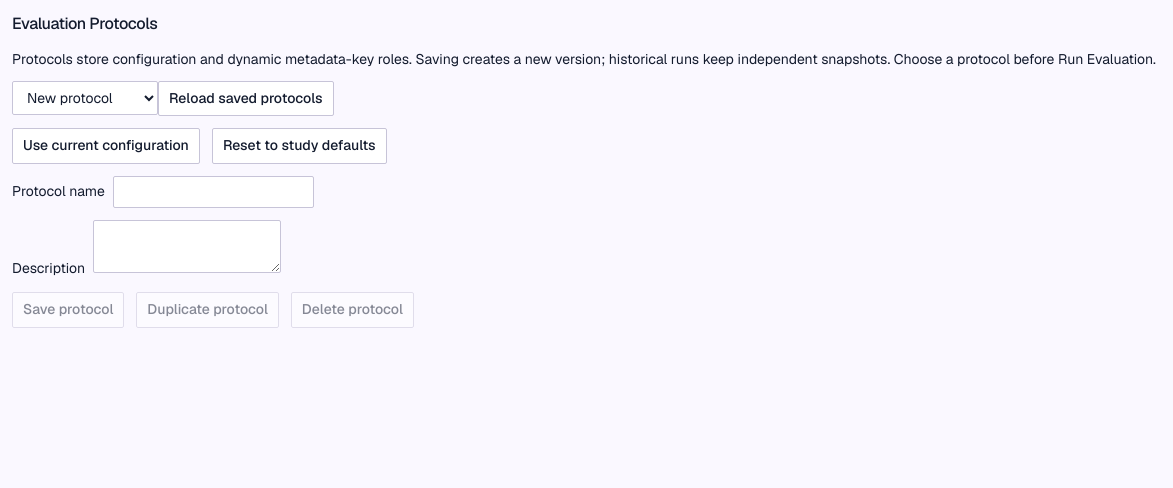
protocol settings save current configuration and version edits
Select "Protocol Ω — v2" in the dropdown named "Saved protocol" at (85, 98), box [12,81,158,115]
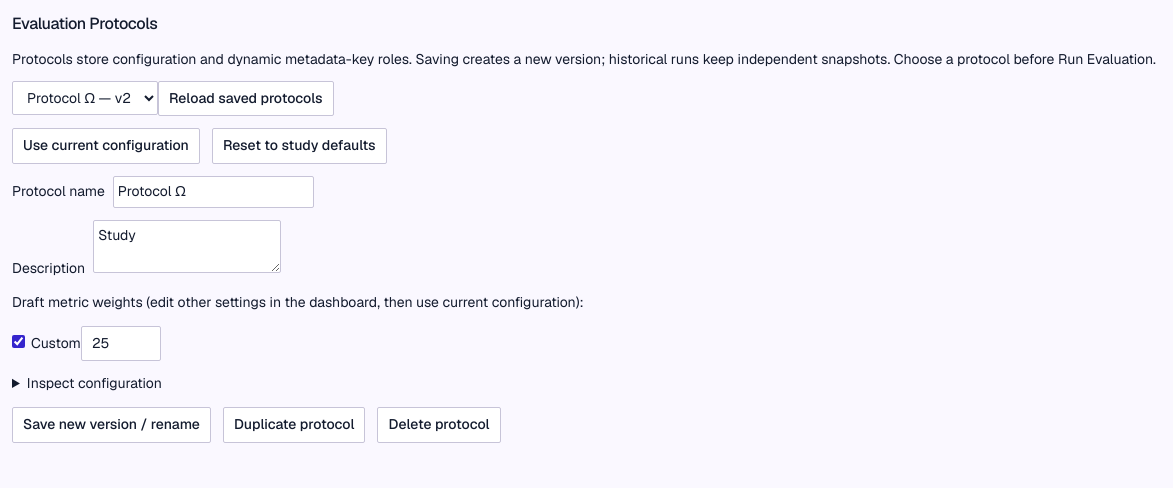
Click the button "Use current configuration" at (106, 146), box [12,128,200,164]
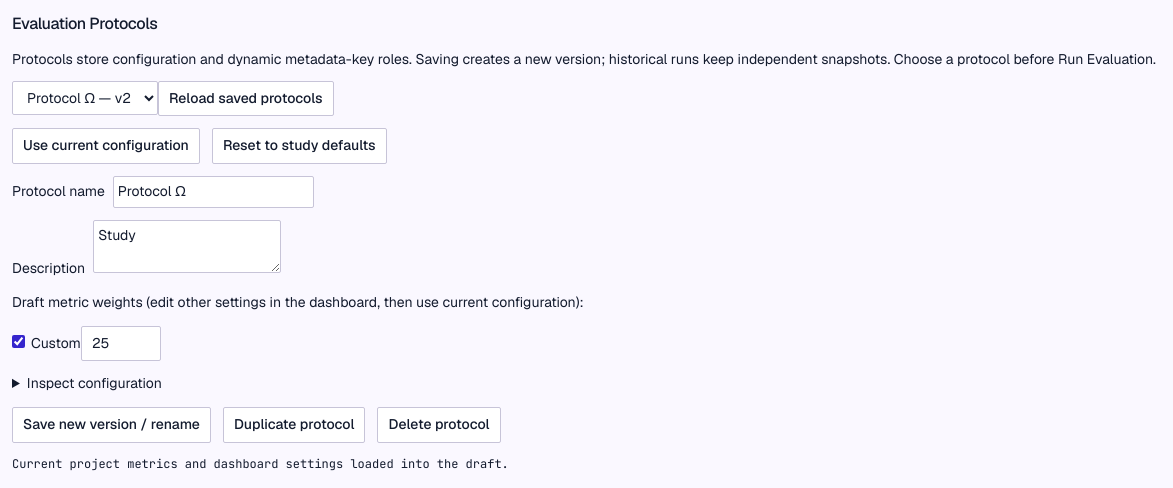
Check: the text "Current project metrics and dashboard settings loaded into the draft." is shown, box [12,456,509,472]
Replace the text in the field labelled "Protocol name" with "Renamed" at (213, 192), box [113,176,314,208]
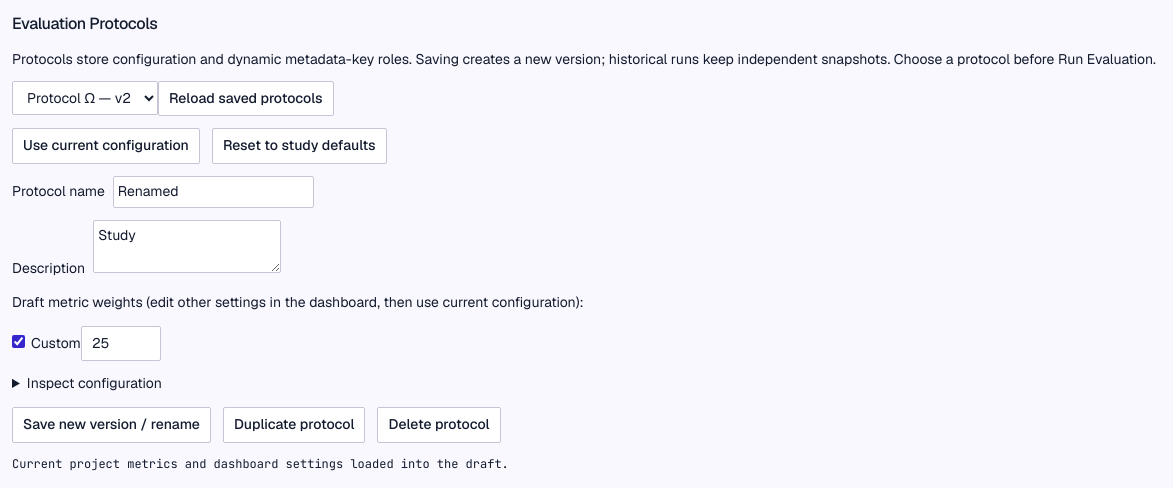
Click the button "Save new version / rename" at (111, 425), box [12,407,211,443]
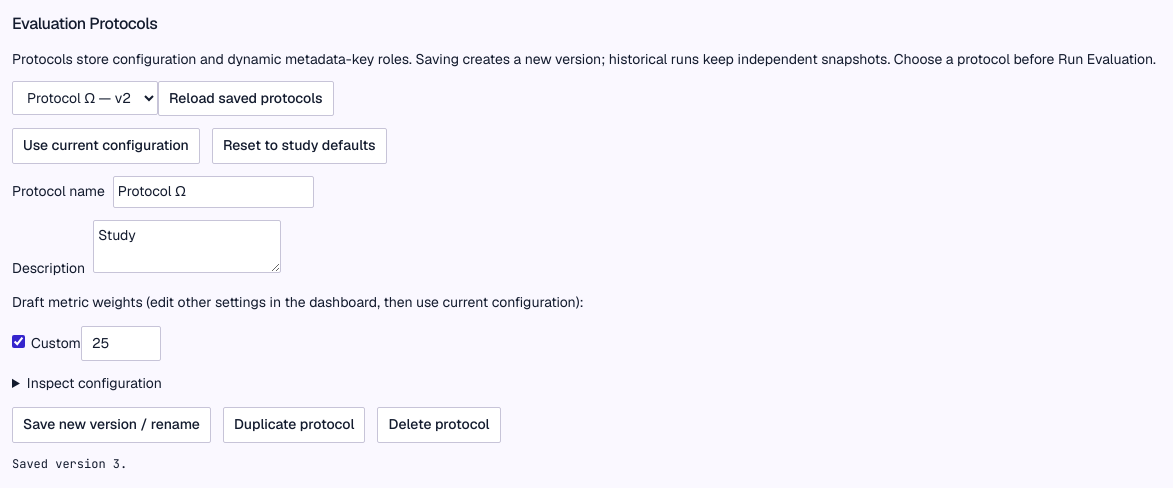
Check: the text "Saved version 3." is shown, box [12,456,127,472]
